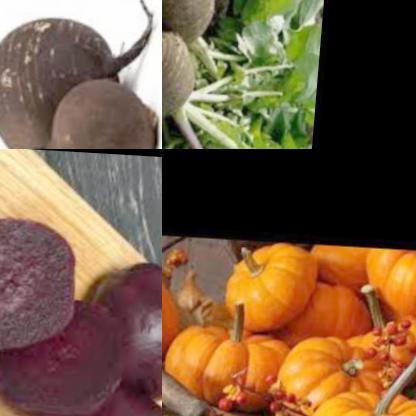beet: (0, 294, 132, 416), (0, 200, 85, 358), (74, 255, 162, 399), (35, 380, 162, 416)
pumpkin: (162, 316, 294, 409), (276, 327, 405, 416), (222, 237, 324, 332), (282, 277, 380, 346), (356, 243, 416, 322), (306, 376, 416, 416), (304, 241, 385, 295), (162, 258, 188, 374)
redka: (0, 13, 127, 149), (35, 68, 162, 149), (162, 22, 203, 119), (162, 0, 225, 45)
